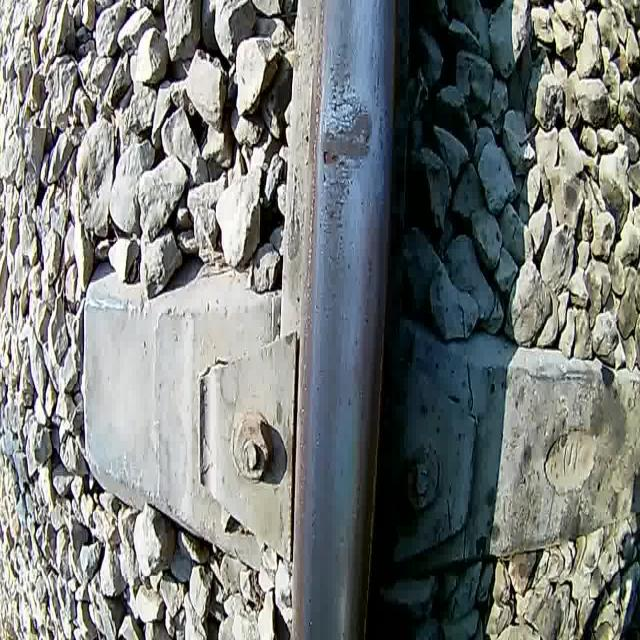Squats: (320, 110, 377, 176)
